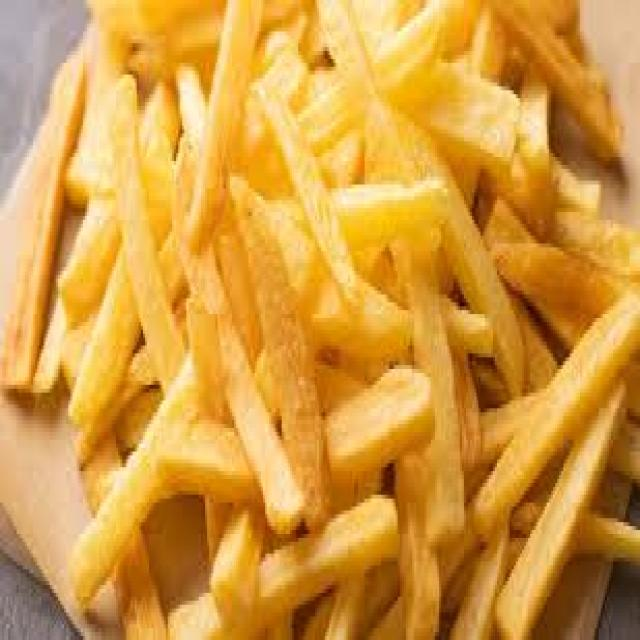감자튀김: (25, 11, 633, 637)
